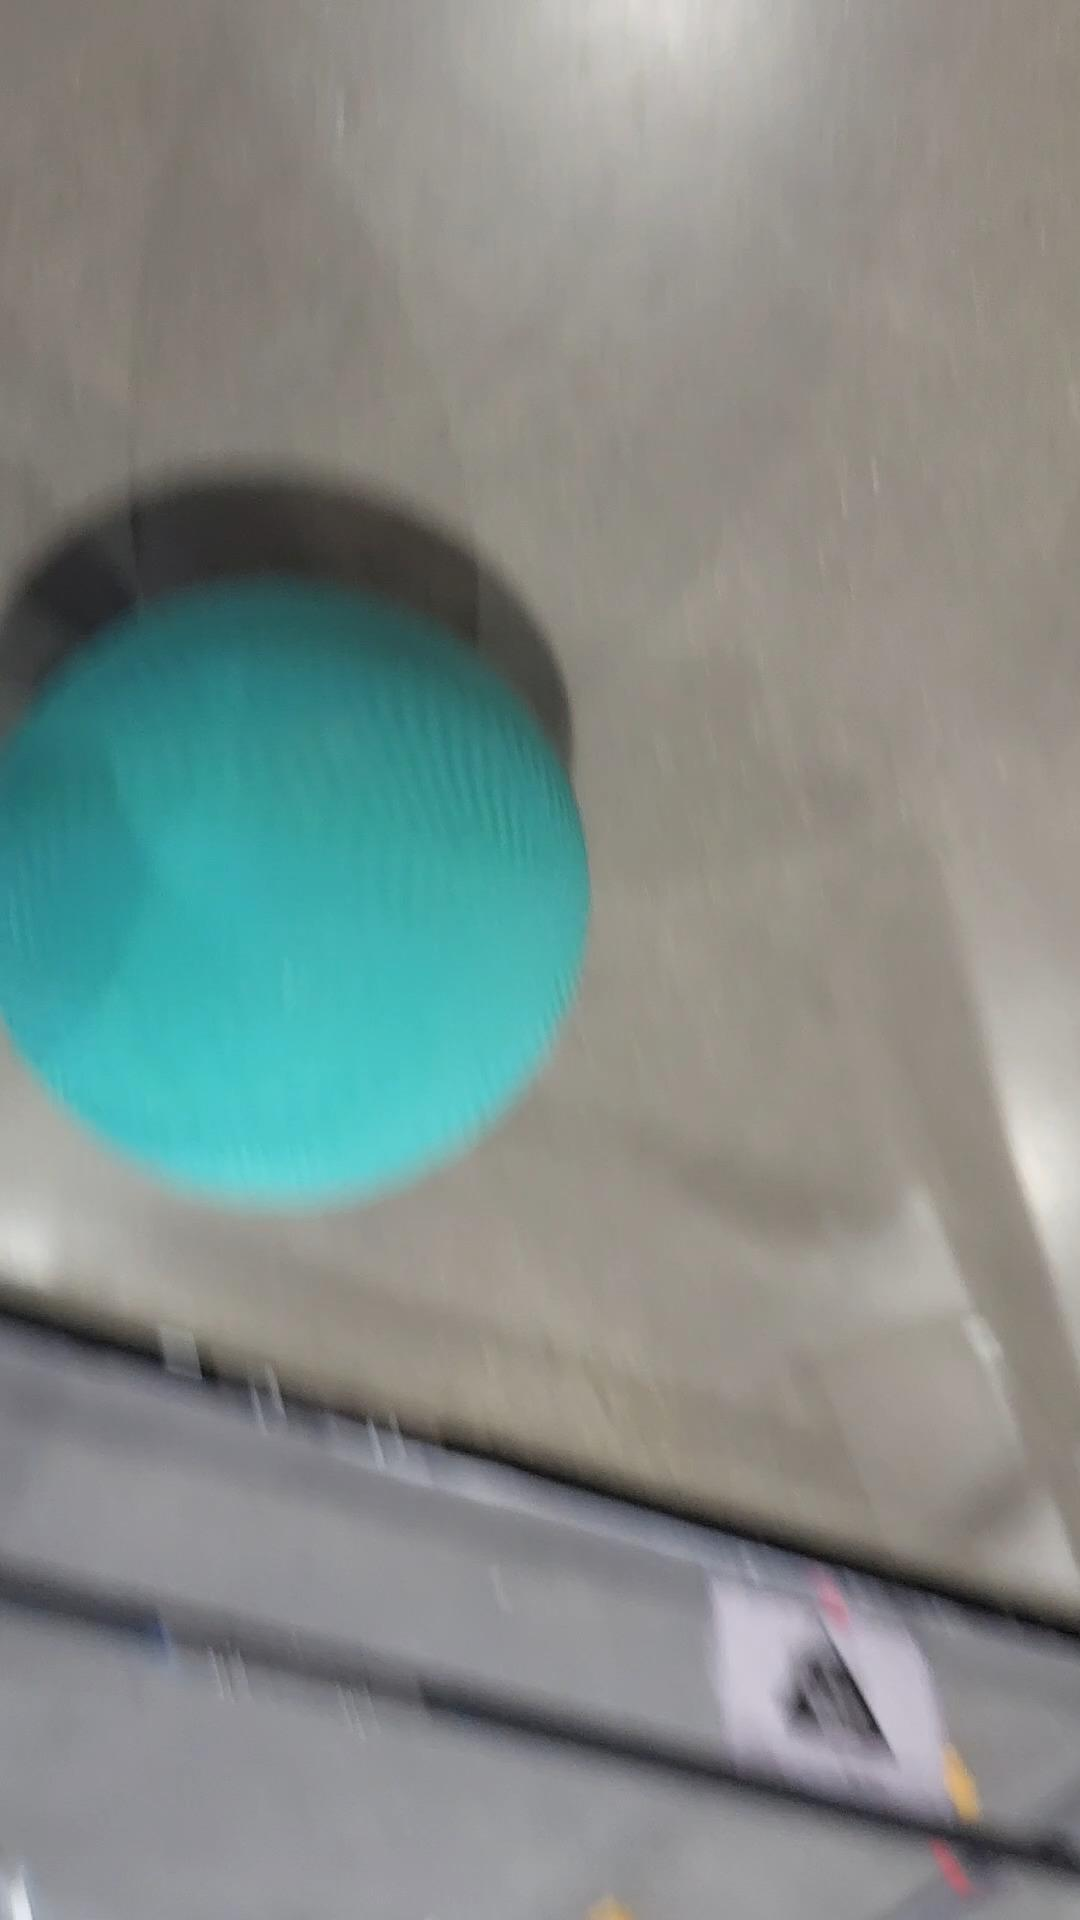algae: (0, 583, 585, 1208)
